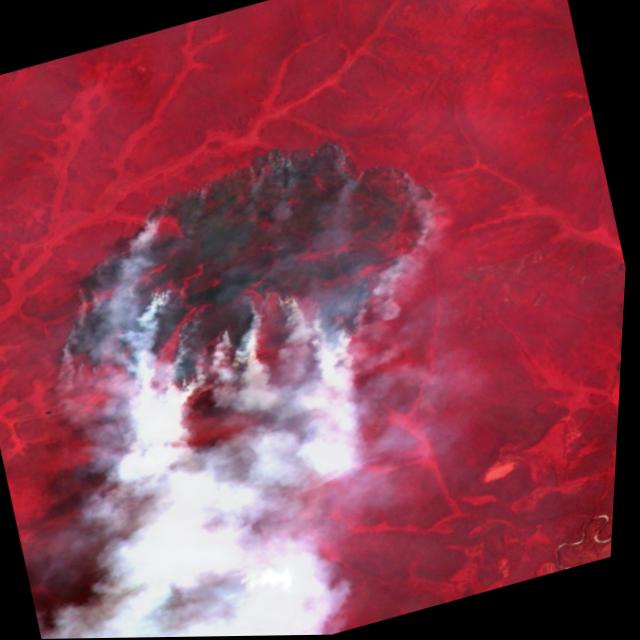fire: (11, 98, 481, 432)
